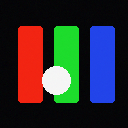2 circle: (42, 66, 70, 94)
